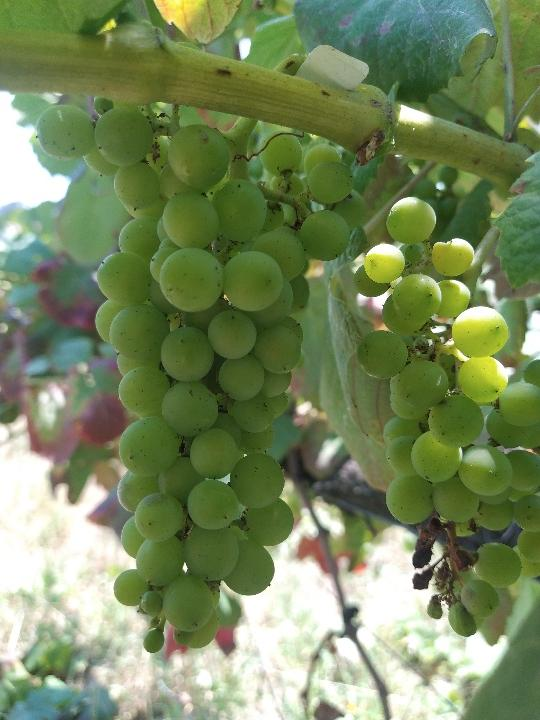grape: (31, 95, 368, 664), (355, 197, 531, 640)
